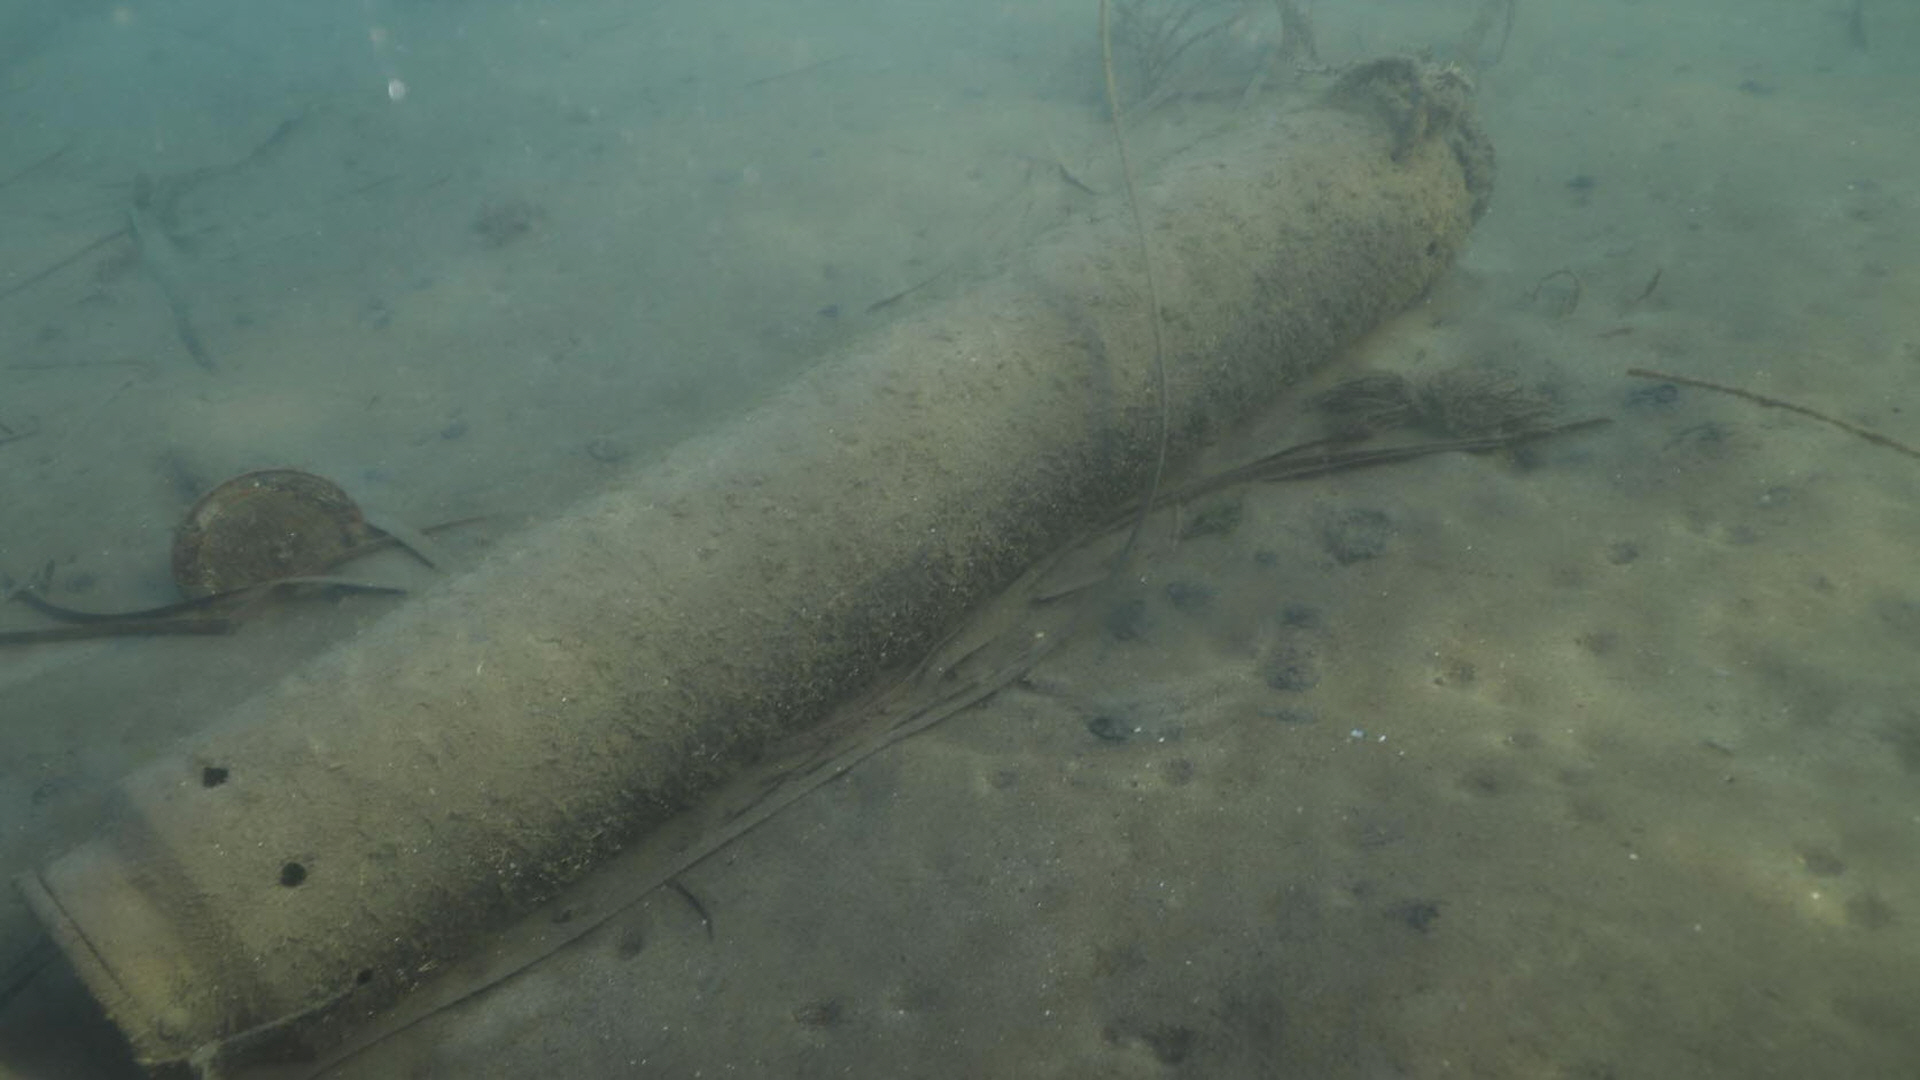eel fish trap: (16, 51, 1495, 1075)
